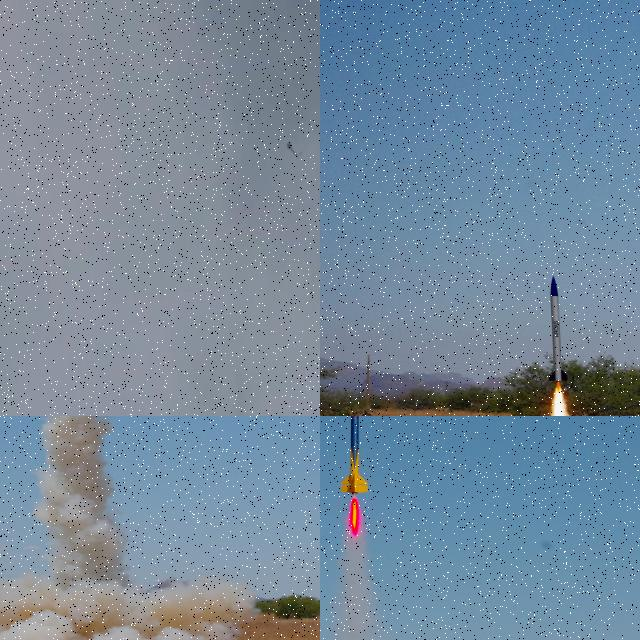Rocket: (340, 416, 368, 494), (548, 275, 568, 382), (287, 142, 298, 160)
